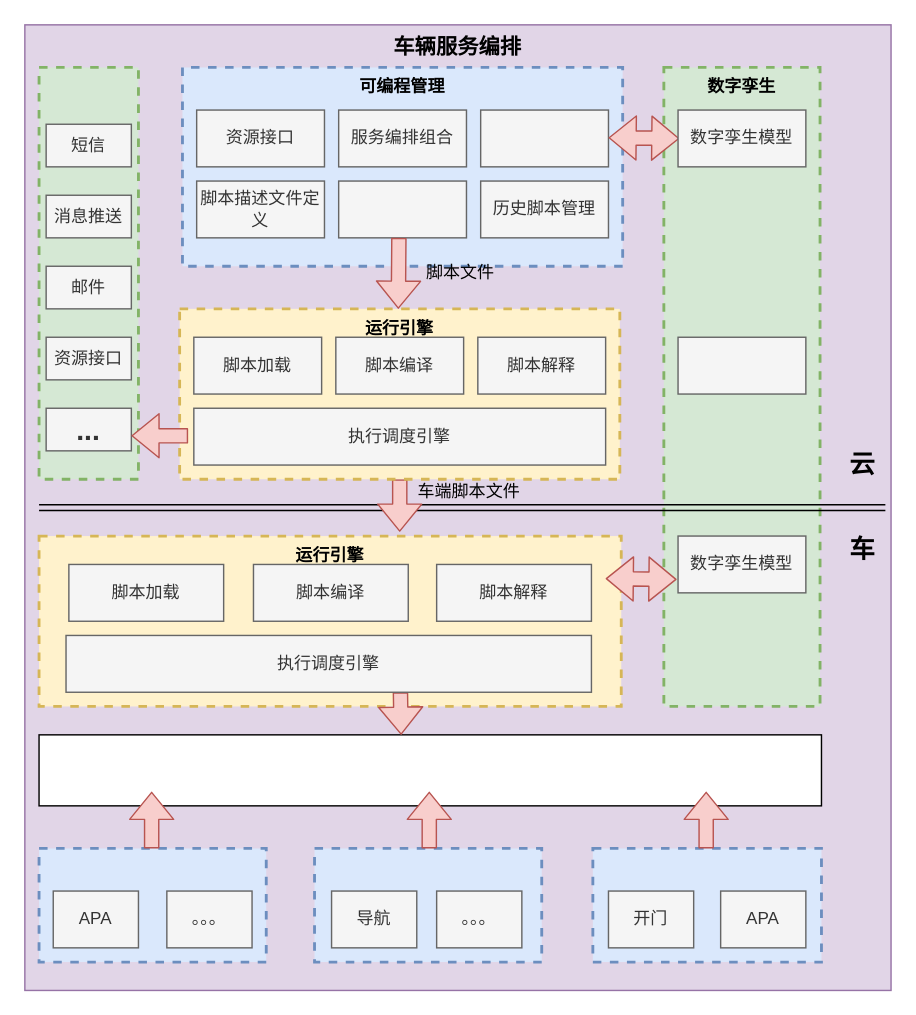
This 916x1015 diagram has some shape labels left out. Here are the shapes that lost their labels. From the top down, the box of each, then its label:
(479, 109, 608, 167): 资源互操作
(337, 180, 466, 238): 编排发布
(37, 65, 139, 480): 云端服务
(677, 336, 806, 394): 数字孪生实例
(38, 733, 821, 806): 统一消息框架
(37, 846, 267, 963): ADC
(312, 846, 542, 963): CDC
(591, 846, 822, 963): VDC
